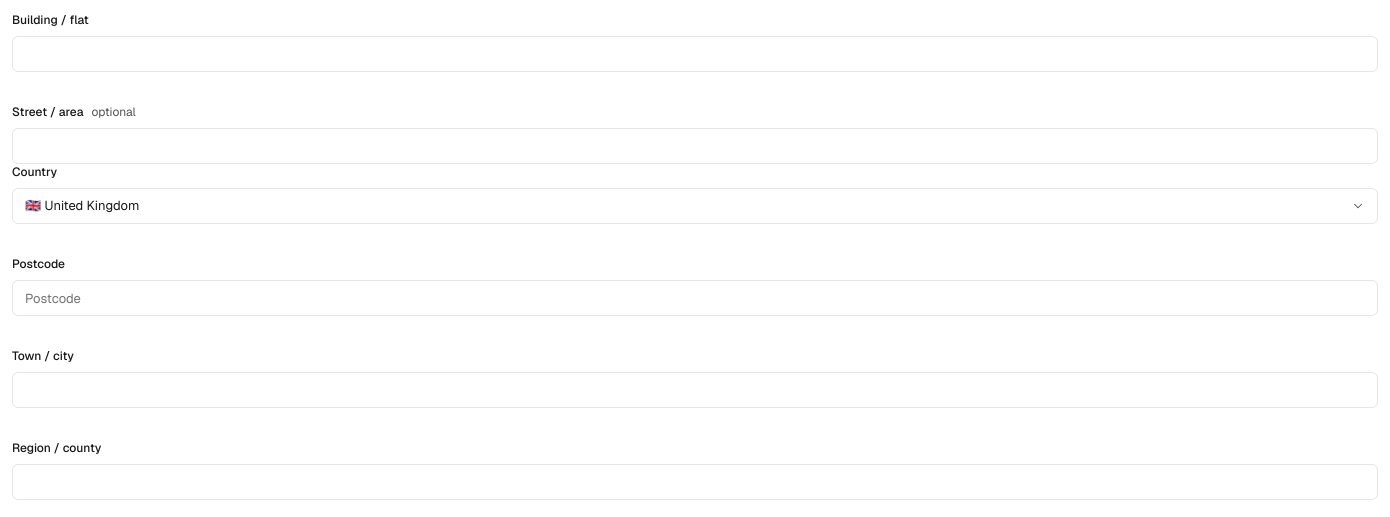
Test: AddressFields › keeps the letters in a postcode outside India, and looks it up
Type "EH1 1YZ" into the field labelled "Postcode" at (695, 298), box [12, 280, 1378, 316]
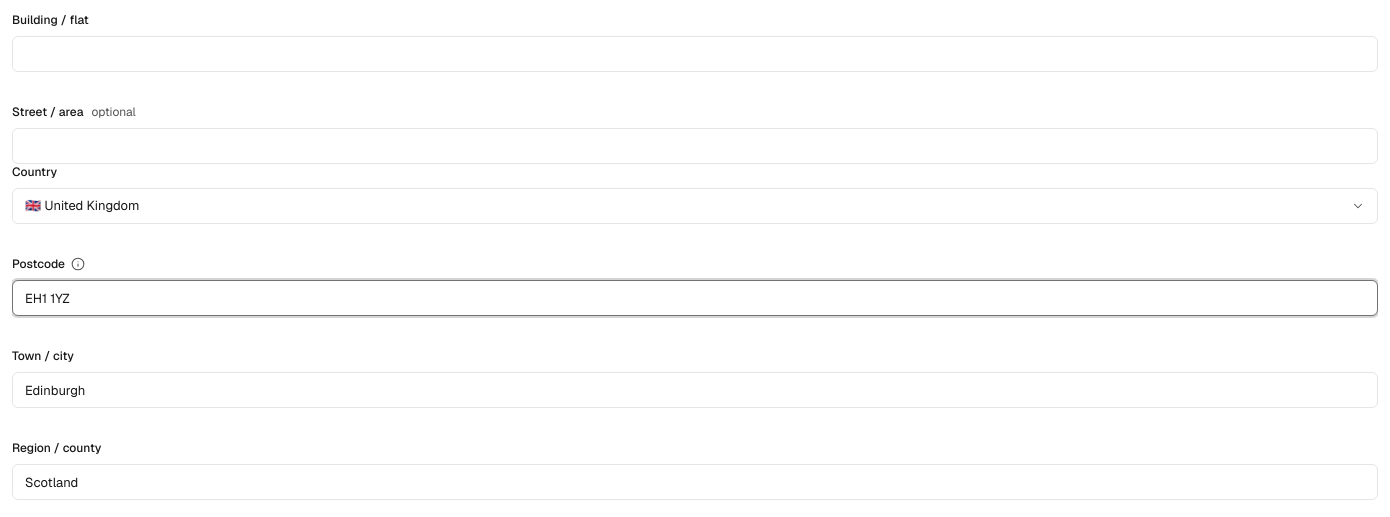
Result: the field labelled "Town / city" holds "Edinburgh" at [12, 372, 1378, 408]
Result: the field labelled "Region / county" holds "Scotland" at [12, 464, 1378, 500]
